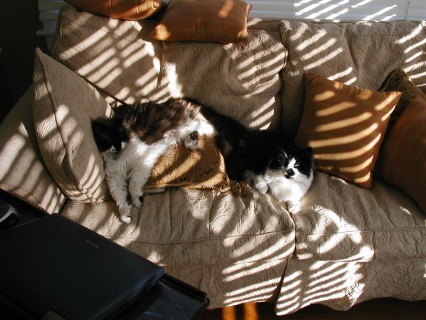Cat: (176, 93, 319, 216), (88, 92, 217, 226)
